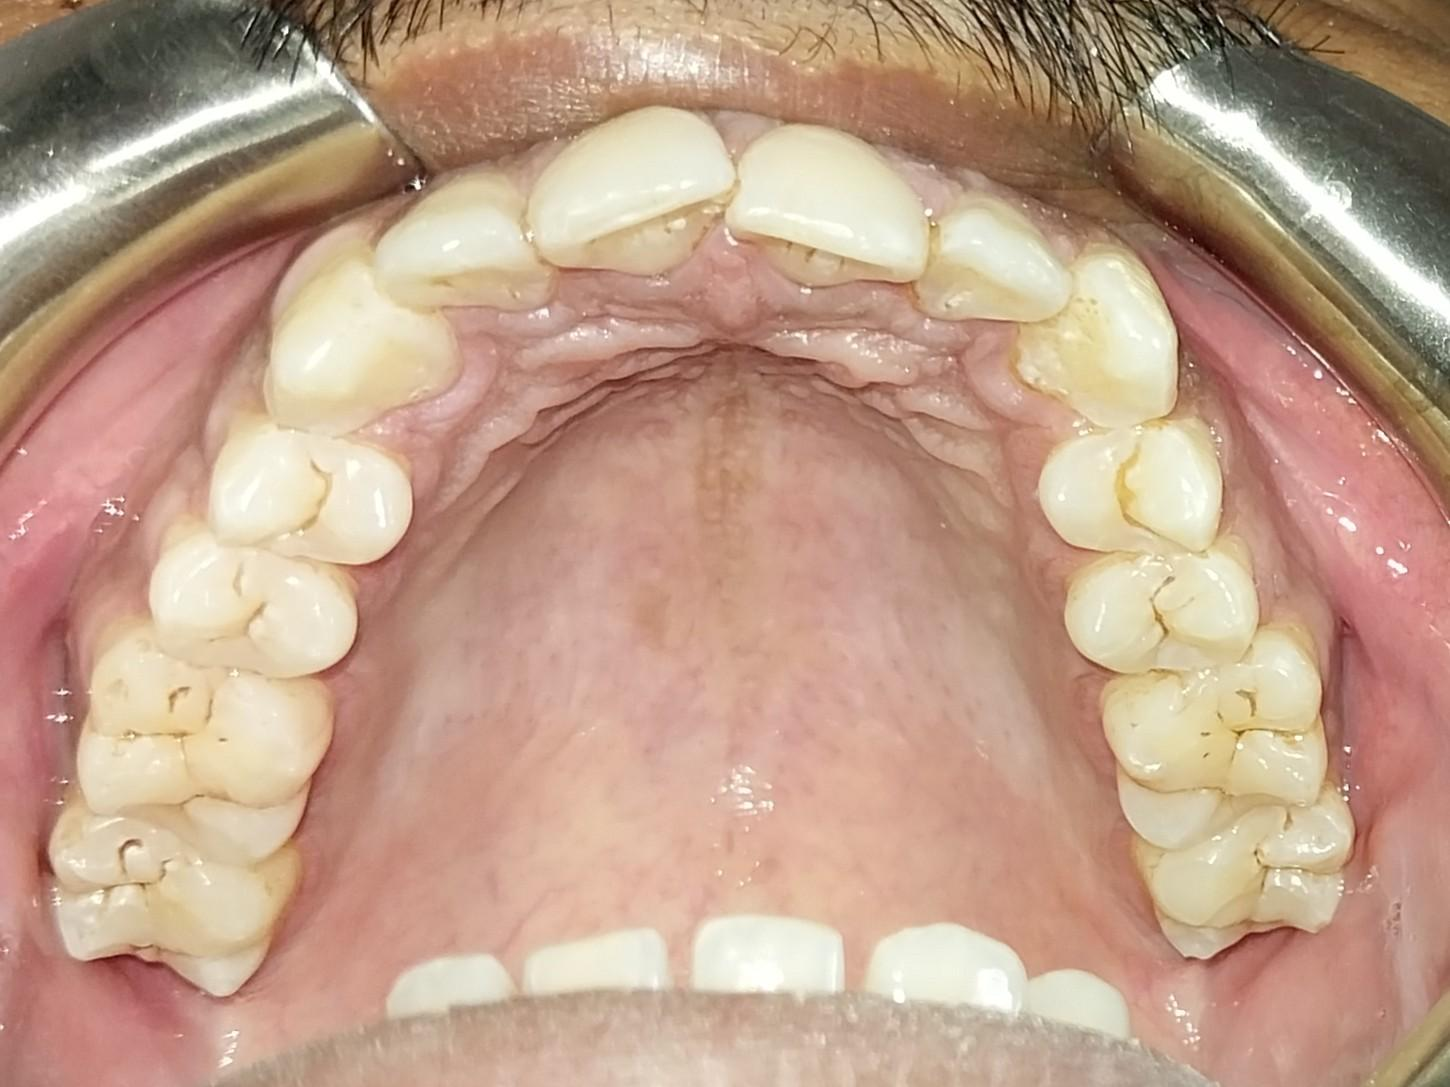D: (71, 636, 329, 868), (1104, 639, 1334, 843), (47, 823, 284, 995), (1057, 553, 1255, 678)
